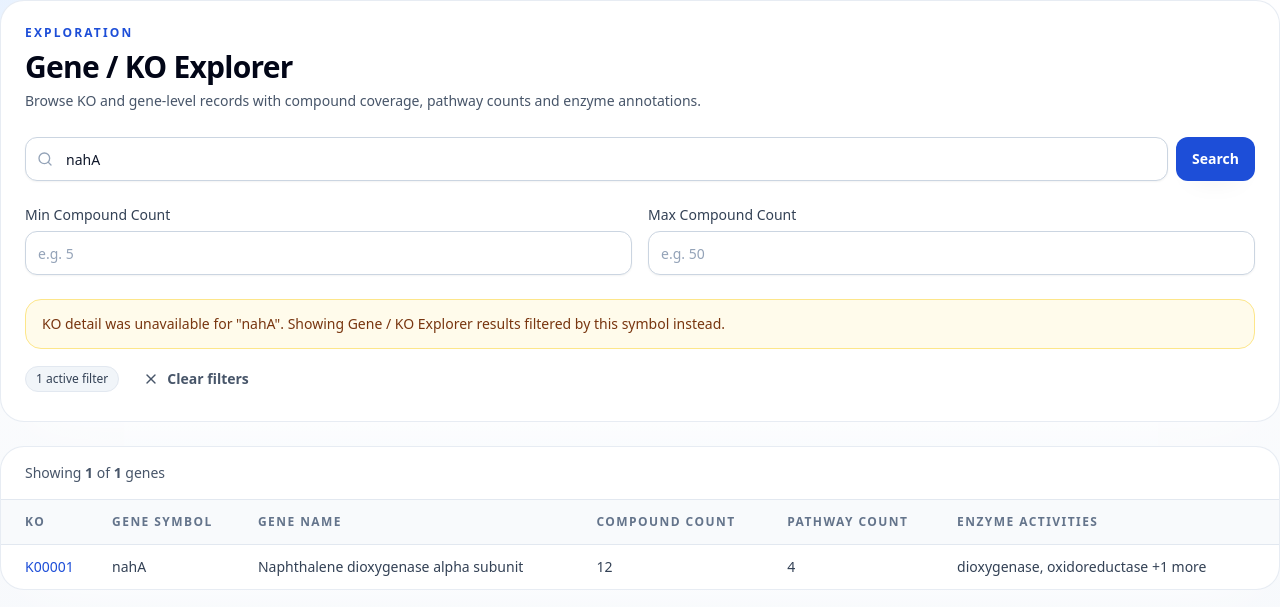
Test: GeneExplorer › prefills the explorer search when guided drilldown falls back by gene symbol
The image size is (1280, 607).
Check: the field showing "nahA" is shown, box [25, 137, 1168, 181]
Check: the text "KO detail was unavailable for \"nahA\". Showing Gene / KO Explorer results filtered by this symbol instead." is shown, box [42, 314, 725, 333]
Click the button "Clear filters" at coordinates (196, 379), box [131, 361, 261, 397]
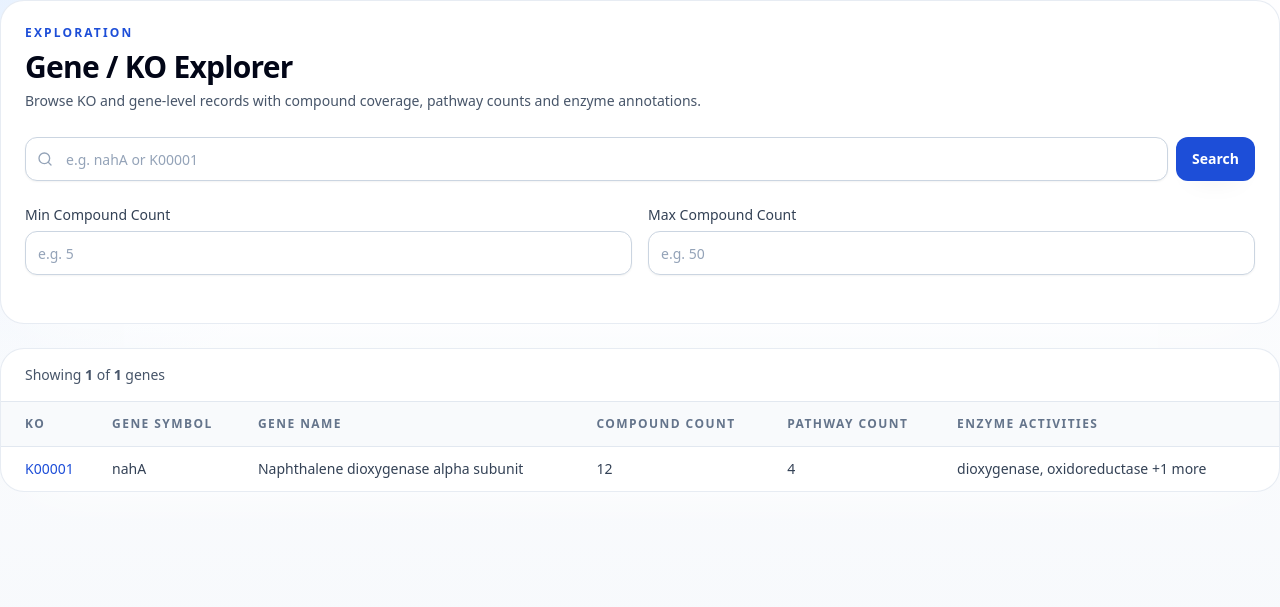
Check: the field with placeholder "e.g. nahA or K00001" is empty, box [25, 137, 1168, 181]
Check: the text "KO detail was unavailable for \"nahA\". Showing Gene / KO Explorer results filtered by this symbol instead." is gone
